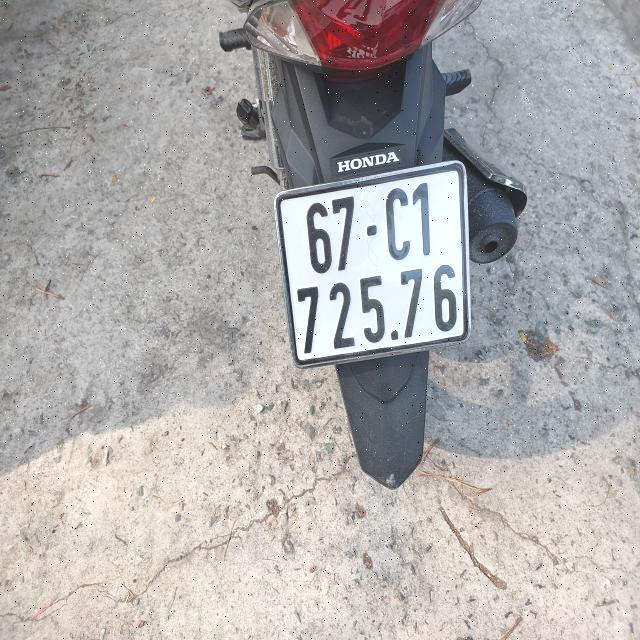1: (410, 181, 432, 259)
2: (328, 280, 357, 350)
5: (359, 272, 388, 346)
6: (305, 200, 333, 275), (431, 261, 458, 334)
7: (332, 194, 356, 274), (399, 267, 424, 340), (296, 284, 320, 357)
C: (384, 186, 410, 262)
